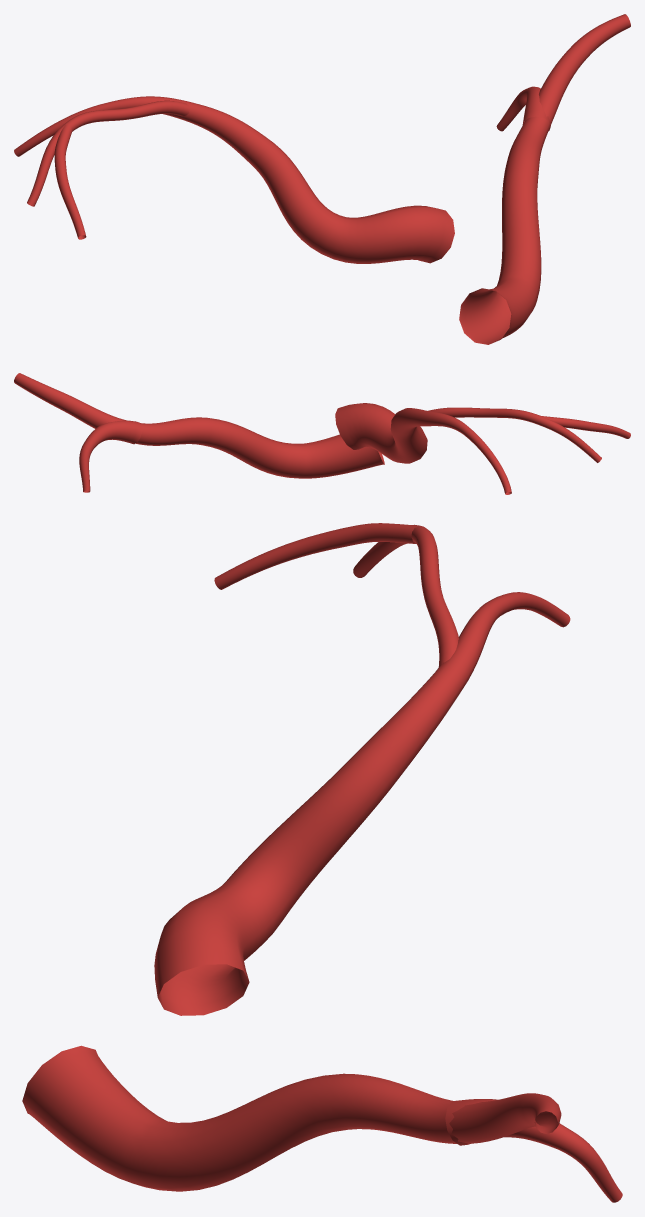
3 renders of one model, top to bottom at view 1: azimuth 30°, elevation 25°; view 2: azimuth 150°, elevation 25°; view 3: azimuth 270°, elevation 25°, orthographic. The views are drawn at different scales.
Visible parts, largest first — view 1: 右侧膝中动脉; view 2: 右侧膝中动脉; view 3: 右侧膝中动脉.
Part boxes in pixels (bbox=[...]): 右侧膝中动脉: bbox=[14, 14, 630, 344]; 右侧膝中动脉: bbox=[14, 373, 630, 494]; 右侧膝中动脉: bbox=[22, 523, 622, 1202].
Size of the model in its own units: 0.0784 by 0.0258 by 0.0378.
